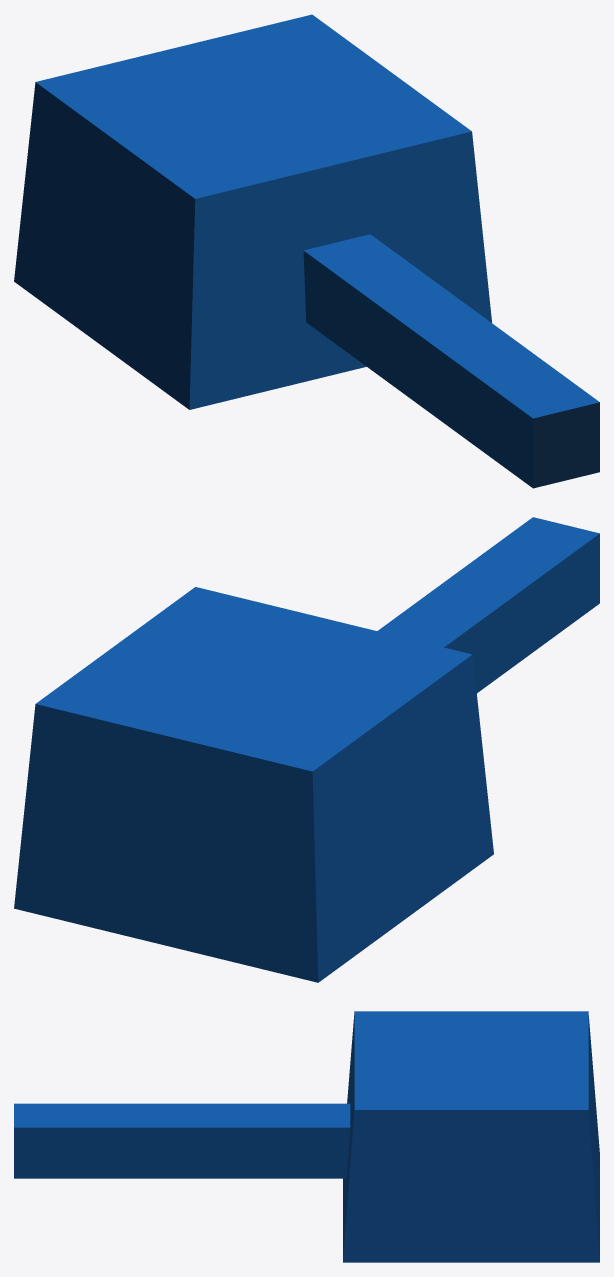
Rendered from tank_top.dae.
3 renders of one model, top to bottom at view 1: azimuth 30°, elevation 25°; view 2: azimuth 150°, elevation 25°; view 3: azimuth 270°, elevation 25°, orthographic. The views are drawn at different scales.
Visible parts, largest first — view 1: Cube, Cube.001; view 2: Cube, Cube.001; view 3: Cube, Cube.001.
Boxes of the visible parts, <box> form: Cube: <box>14,14,491,409</box>; Cube.001: <box>303,234,599,488</box>; Cube: <box>14,587,493,982</box>; Cube.001: <box>377,517,599,693</box>; Cube: <box>343,1011,599,1262</box>; Cube.001: <box>14,1103,350,1178</box>.
Bounding box in the file's own units: 0.2978 × 0.6792 × 0.1891.
Materials: 1 (1 with a texture image).
